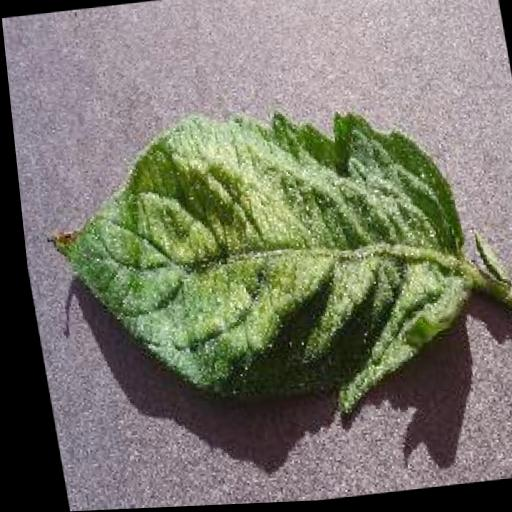Spider Mites: (21, 88, 486, 448)
